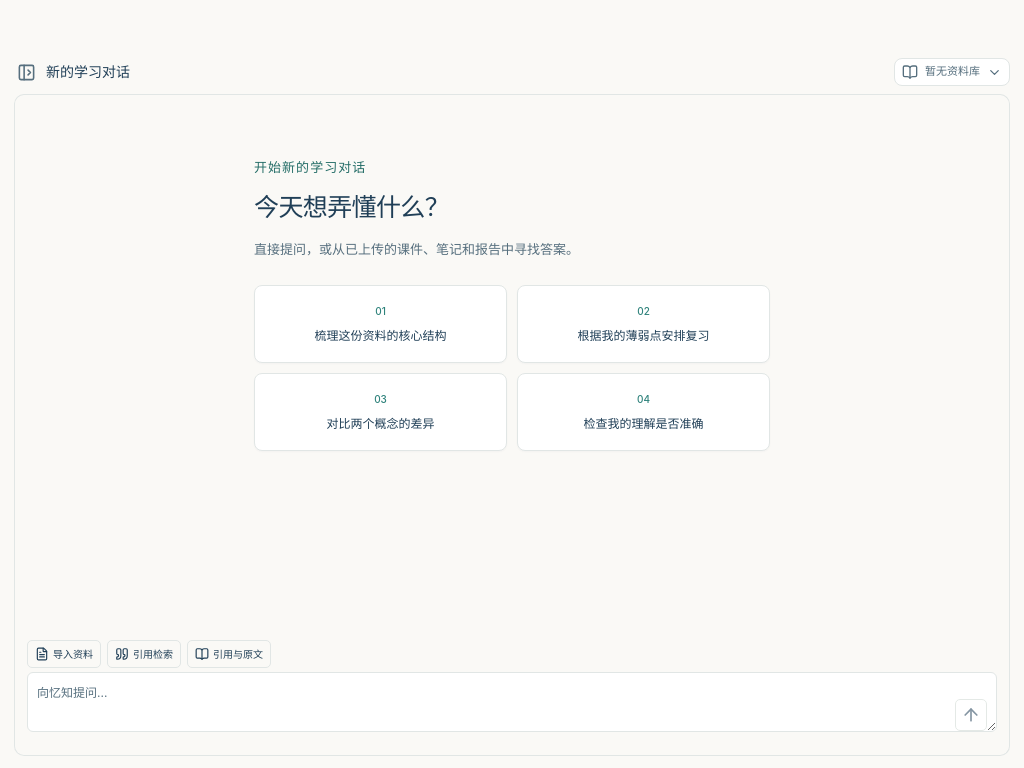
it: failed answer has a terminal state and retry (partial=true)
Type "测试问题" into the text box labelled "向忆知提问..." at (512, 702), box [27,672,997,732]
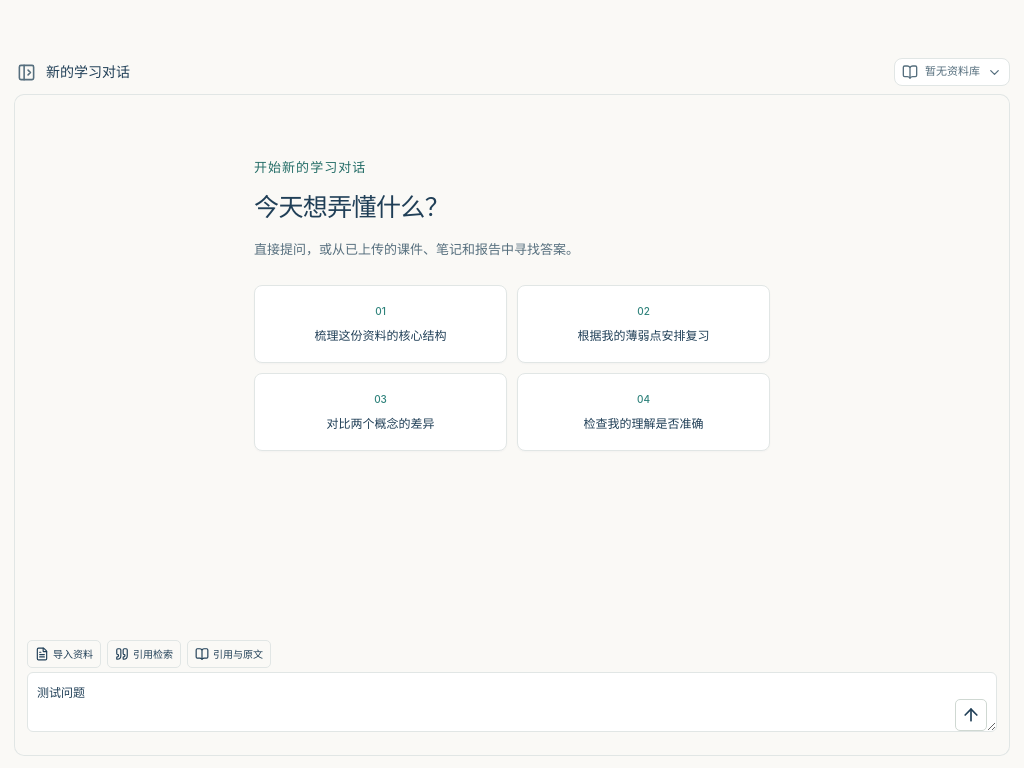
Click the button named "发送" at (971, 715), box [955,699,987,731]
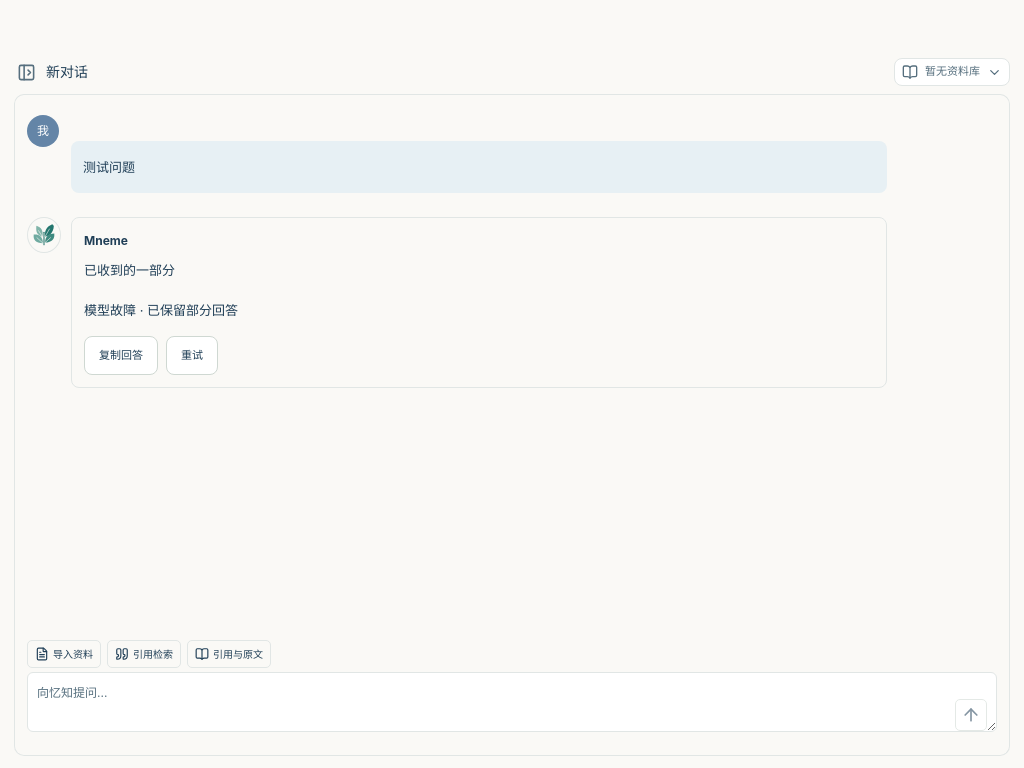
Expected: the button "重试" is enabled, [166,336,218,375]
Expected: the message shows "模型故障", [84,302,136,318]
Expected: the text "已收到的一部分" is shown, [84,262,175,278]
